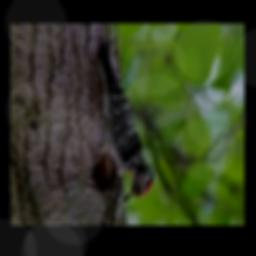Woodpecker: (91, 38, 153, 203)
